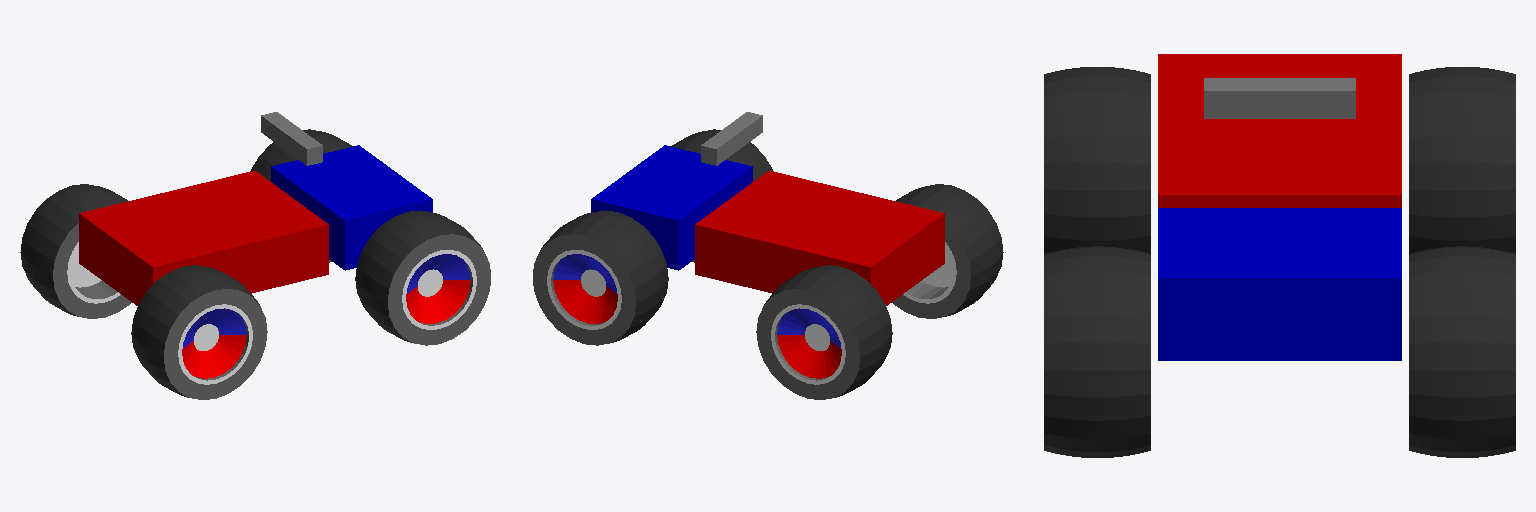
URDF robot description (beagle_front):
<?xml version="1.0"?>
<robot name="beagle_front" xmlns:xacro="http://ros.org/wiki/xacro">

  <material name="blue">
    <color rgba="0.0 0.0 0.8 1.0"/>
  </material>
  <material name="grey">
    <color rgba="0.5 0.5 0.5 1.0"/>
  </material>
  <material name="red">
    <color rgba="0.8 0.0 0.0 1.0"/>
  </material>
  <material name="indigo">
    <color rgba="0.33 0.0 0.5 1.0"/>
  </material>
  <material name="yellow">
    <color rgba="1.0 1.0 0.0 1.0"/>
  </material>
  <material name="white">
    <color rgba="1.0 1.0 1.0 1.0"/>
  </material>
  <material name="black">
    <color rgba="0.01 0.01 0.01 0.9"/>
  </material>

  <link name="base_link">
    <origin xyz="0 0 0.07" rpy="0 0 0"/>
  </link>

  <joint name="front_body_joint" type="revolute">
    <parent link="base_link"/>
    <child link="front_link"/>
    <origin xyz="0 0 0.04" rpy="0 0 0"/>
    <axis xyz="1 0 0"/>
    <limit lower="-0.3927" upper="0.3927" effort="10" velocity="1.0"/>
  </joint>

  <joint name="rear_body_joint" type="revolute">
    <parent link="base_link"/>
    <child link="rear_link"/>
    <origin xyz="0 0 0.04" rpy="0 0 0"/>
    <axis xyz="1 0 0"/>
    <limit lower="-0.3927" upper="0.3927" effort="10" velocity="1.0"/>
  </joint>

  <link name="front_link">
    <visual>
      <origin xyz="0.065 0 0" rpy="0 0 0"/>
      <geometry>
        <box size="0.11 0.16 0.06"/>
      </geometry>
      <material name="blue"/>
    </visual>
  </link>

  <link name="rear_link">
    <visual>
      <origin xyz="-0.12 0 0" rpy="0 0 0"/>
      <geometry>
        <box size="0.22 0.16 0.06"/>
      </geometry>
      <material name="red"/>
    </visual>
  </link>

  <joint name="front_left_wheel_joint" type="continuous">
    <parent link="front_link"/>
    <child link="front_left_wheel"/>
    <origin xyz="0.085 0.12 -0.04" rpy="-1.5707 0 0"/>
    <axis xyz="0 0 1"/>
  </joint>

  <joint name="front_right_wheel_joint" type="continuous">
    <parent link="front_link"/>
    <child link="front_right_wheel"/>
    <origin xyz="0.085 -0.12 -0.04" rpy="-1.5707 0 0"/>
    <axis xyz="0 0 1"/>
  </joint>

  <joint name="rear_left_wheel_joint" type="continuous">
    <parent link="rear_link"/>
    <child link="rear_left_wheel"/>
    <origin xyz="-0.195 0.12 -0.04" rpy="-1.5707 0 0"/>
    <axis xyz="0 0 1"/>
  </joint>

  <joint name="rear_right_wheel_joint" type="continuous">
    <parent link="rear_link"/>
    <child link="rear_right_wheel"/>
    <origin xyz="-0.195 -0.12 -0.04" rpy="-1.5707 0 0"/>
    <axis xyz="0 0 1"/>
  </joint>

  <link name="front_left_wheel">
    <visual>
      <origin xyz="0 0 0" rpy="0 0 0"/>
      <geometry>
        <mesh filename="package://rosrider_description/meshes/rover_wheel_left.dae" scale="1 1 1"/>
      </geometry>
    </visual>
  </link>

  <link name="rear_left_wheel">
    <visual>
      <origin xyz="0 0 0" rpy="0 0 0"/>
      <geometry>
        <mesh filename="package://rosrider_description/meshes/rover_wheel_left.dae" scale="1 1 1"/>
      </geometry>
    </visual>
  </link>

  <link name="front_right_wheel">
    <visual>
      <origin xyz="0 0 0" rpy="0 0 0"/>
      <geometry>
        <mesh filename="package://rosrider_description/meshes/rover_wheel_right.dae" scale="1 1 1"/>
      </geometry>
    </visual>
  </link>

  <link name="rear_right_wheel">
    <visual>
      <origin xyz="0 0 0" rpy="0 0 0"/>
      <geometry>
        <mesh filename="package://rosrider_description/meshes/rover_wheel_right.dae" scale="1 1 1"/>
      </geometry>
    </visual>
  </link>

  <joint name="scan_joint" type="fixed">
    <parent link="front_link"/>
    <child link="base_scan_3d"/>
    <origin xyz="0 0.0 0.1" rpy="0 0 0"/>
  </joint>
  <link name="base_scan_3d">
    <visual>
      <origin xyz="-0.01 0 0" rpy="0 0 0"/>
      <geometry>
        <box size="0.02 0.1 0.02"/>
      </geometry>
      <material name="grey"/>
    </visual>
  </link>

  <joint name="imu_joint" type="fixed">
    <parent link="front_link"/>
    <child link="imu_link"/>
    <origin xyz="0.085 0 0" rpy="0 0 0"/>
  </joint>
  <link name="imu_link">
    <visual>
      <origin xyz="0 0 0" rpy="0 0 0"/>
      <geometry>
        <mesh filename="package://rosrider_description/meshes/fximu3e.dae" scale="1 1 1"/>
      </geometry>
    </visual>
  </link>

</robot>

--- Facts derived from the render (not from the file) ---
The picture shows the robot from 3 angles, left to right: view 1: azimuth 30°, elevation 25°; view 2: azimuth 150°, elevation 25°; view 3: azimuth 270°, elevation 25°; orthographic projection.
Robot: beagle_front — 9 links, 8 joints (2 revolute, 4 continuous, 2 fixed); root link base_link; default pose: every joint at zero.
Visible links, largest first — view 1: rear_link, rear_right_wheel, front_right_wheel, front_link, rear_left_wheel, base_scan_3d, front_left_wheel; view 2: rear_link, rear_left_wheel, front_left_wheel, front_link, rear_right_wheel, base_scan_3d, front_right_wheel; view 3: front_link, rear_link, front_left_wheel, front_right_wheel, rear_left_wheel, rear_right_wheel, base_scan_3d.
Boxes of the visible links, x1,y1,x2,y2 form: rear_link: [79, 171, 328, 305]; rear_right_wheel: [131, 265, 267, 399]; front_right_wheel: [355, 210, 490, 345]; front_link: [271, 145, 432, 270]; rear_left_wheel: [20, 184, 131, 318]; base_scan_3d: [261, 112, 322, 165]; front_left_wheel: [250, 129, 352, 262]; rear_link: [695, 171, 944, 305]; rear_left_wheel: [756, 265, 892, 399]; front_left_wheel: [533, 210, 668, 345]; front_link: [591, 145, 752, 270]; rear_right_wheel: [892, 184, 1003, 318]; base_scan_3d: [701, 112, 762, 165]; front_right_wheel: [671, 129, 773, 262]; front_link: [1158, 208, 1401, 360]; rear_link: [1158, 54, 1401, 207]; front_left_wheel: [1409, 246, 1515, 457]; front_right_wheel: [1044, 246, 1150, 457]; rear_left_wheel: [1409, 67, 1515, 253]; rear_right_wheel: [1044, 67, 1150, 253]; base_scan_3d: [1204, 78, 1355, 118].
Bounding box of the posed robot: 0.42 × 0.31 × 0.22 m (x, y, z).
Meshes: 3 distinct files referenced, 5 mesh visuals loaded (3 Collada DAE).
